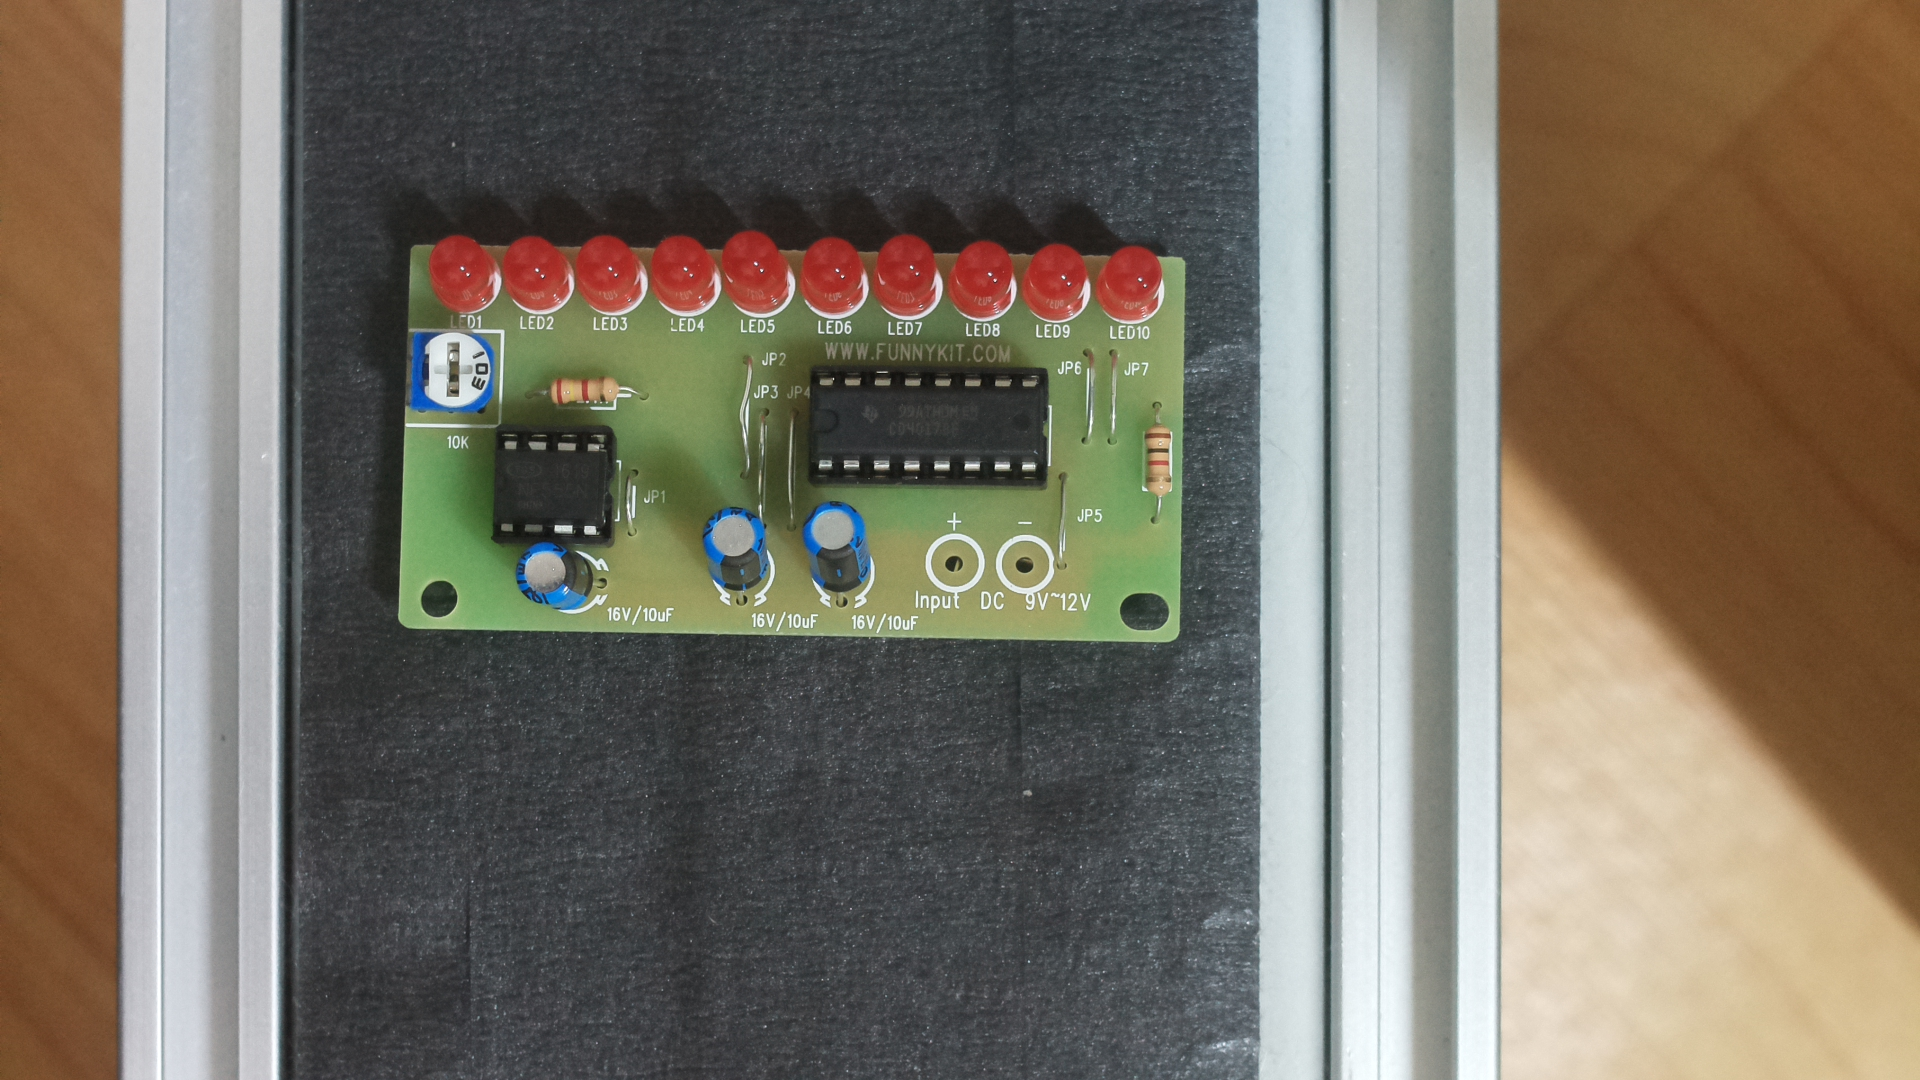B_Normal: (393, 216, 1208, 675)
